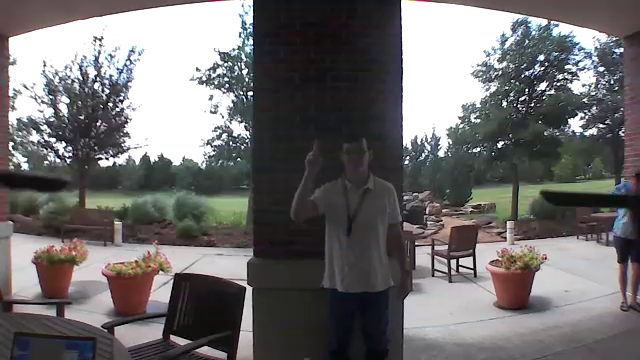up: (303, 135, 329, 173)
